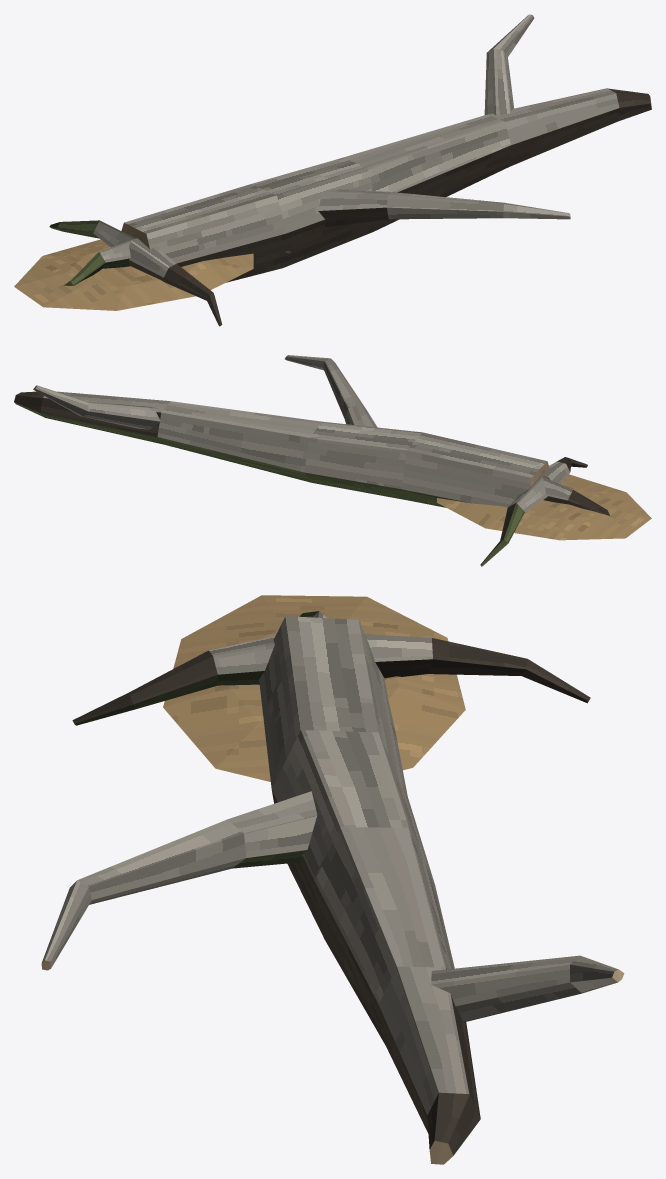
File: buried-trunk.glb
3 views of the same model, one above another, from view 1: azimuth 30°, elevation 25°; view 2: azimuth 150°, elevation 25°; view 3: azimuth 270°, elevation 25° (orthographic). The views are drawn at different scales.
Visible parts, largest first — view 1: buried-trunk; view 2: buried-trunk; view 3: buried-trunk.
Part boxes in pixels (x1=…): buried-trunk: x1=14, y1=14, x2=651, y2=326; buried-trunk: x1=14, y1=355, x2=651, y2=566; buried-trunk: x1=41, y1=595, x2=624, y2=1164.
Size of the model in its own units: 8.69 by 1.29 by 3.71.
5 materials, 5 textured.
